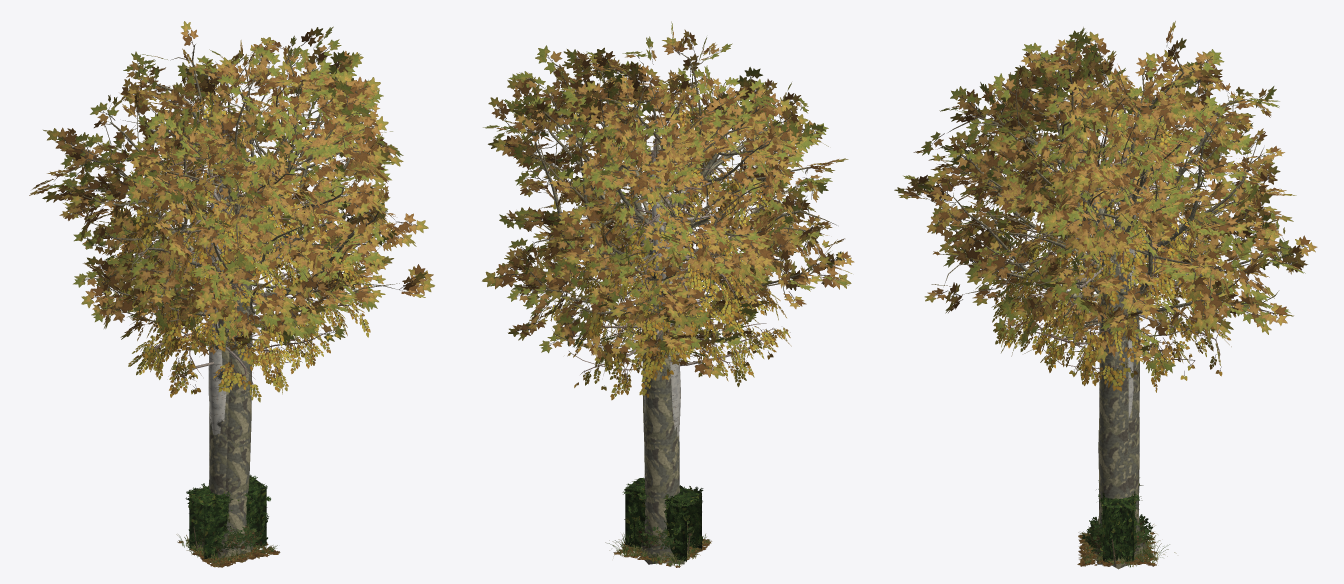
File: heron-reach-foliage.glb
3 views of the same model, side by side, from view 1: azimuth 30°, elevation 25°; view 2: azimuth 150°, elevation 25°; view 3: azimuth 270°, elevation 25° (orthographic). The views are drawn at different scales.
Parts seen in each view (by area): view 1: TREE_PLANE_A_leaves, TREE_PLANE_B_leaves, TREE_PLANE_A_bark, TREE_BIRCH_A_leaves, TREE_BIRCH_B_leaves, TREE_PLANE_B_bark, HEDGE_1M_mesh, TREE_BIRCH_B_bark, HEDGE_END_mesh, TREE_BIRCH_A_bark, GRASS_PATCH_1M_mesh, LEAF_LITTER_A_mesh (+2 smaller); view 2: TREE_PLANE_A_leaves, TREE_PLANE_B_leaves, TREE_PLANE_B_bark, TREE_BIRCH_B_leaves, TREE_BIRCH_A_leaves, TREE_PLANE_A_bark, HEDGE_1M_mesh, TREE_BIRCH_B_bark, TREE_BIRCH_A_bark, HEDGE_END_mesh, GRASS_PATCH_1M_mesh; view 3: TREE_PLANE_A_leaves, TREE_PLANE_B_leaves, TREE_BIRCH_A_leaves, TREE_PLANE_A_bark, TREE_PLANE_B_bark, TREE_BIRCH_B_leaves, TREE_BIRCH_A_bark, HEDGE_END_mesh, GRASS_PATCH_1M_mesh, TREE_BIRCH_B_bark, HEDGE_1M_mesh.
Boxes of the visible parts, x1,y1,x2,y2 form: TREE_PLANE_A_leaves: [29, 21, 434, 356]; TREE_PLANE_B_leaves: [97, 37, 403, 351]; TREE_PLANE_A_bark: [54, 44, 399, 548]; TREE_BIRCH_A_leaves: [121, 98, 372, 385]; TREE_BIRCH_B_leaves: [107, 162, 328, 402]; TREE_PLANE_B_bark: [119, 55, 382, 563]; HEDGE_1M_mesh: [185, 474, 270, 559]; TREE_BIRCH_B_bark: [120, 157, 308, 435]; HEDGE_END_mesh: [186, 476, 267, 558]; TREE_BIRCH_A_bark: [126, 104, 358, 375]; GRASS_PATCH_1M_mesh: [176, 534, 277, 567]; LEAF_LITTER_A_mesh: [194, 545, 279, 567]; TREE_PLANE_A_leaves: [488, 21, 854, 355]; TREE_PLANE_B_leaves: [482, 47, 832, 378]; TREE_PLANE_B_bark: [503, 68, 797, 564]; TREE_BIRCH_B_leaves: [562, 163, 791, 400]; TREE_BIRCH_A_leaves: [541, 102, 785, 381]; TREE_PLANE_A_bark: [526, 51, 836, 563]; HEDGE_1M_mesh: [622, 478, 703, 561]; TREE_BIRCH_B_bark: [569, 164, 790, 436]; TREE_BIRCH_A_bark: [547, 102, 769, 411]; HEDGE_END_mesh: [623, 477, 702, 560]; GRASS_PATCH_1M_mesh: [605, 533, 711, 566]; TREE_PLANE_A_leaves: [921, 21, 1296, 373]; TREE_PLANE_B_leaves: [894, 27, 1317, 372]; TREE_BIRCH_A_leaves: [983, 78, 1236, 392]; TREE_PLANE_A_bark: [940, 47, 1264, 565]; TREE_PLANE_B_bark: [925, 57, 1293, 569]; TREE_BIRCH_B_leaves: [989, 148, 1238, 391]; TREE_BIRCH_A_bark: [989, 80, 1224, 419]; HEDGE_END_mesh: [1097, 480, 1143, 562]; GRASS_PATCH_1M_mesh: [1078, 524, 1176, 567]; TREE_BIRCH_B_bark: [1005, 168, 1220, 371]; HEDGE_1M_mesh: [1098, 477, 1142, 566].
Bounding box in the file's own units: 5.52 × 8.05 × 5.99.
Materials: 9 (9 with a texture image).
